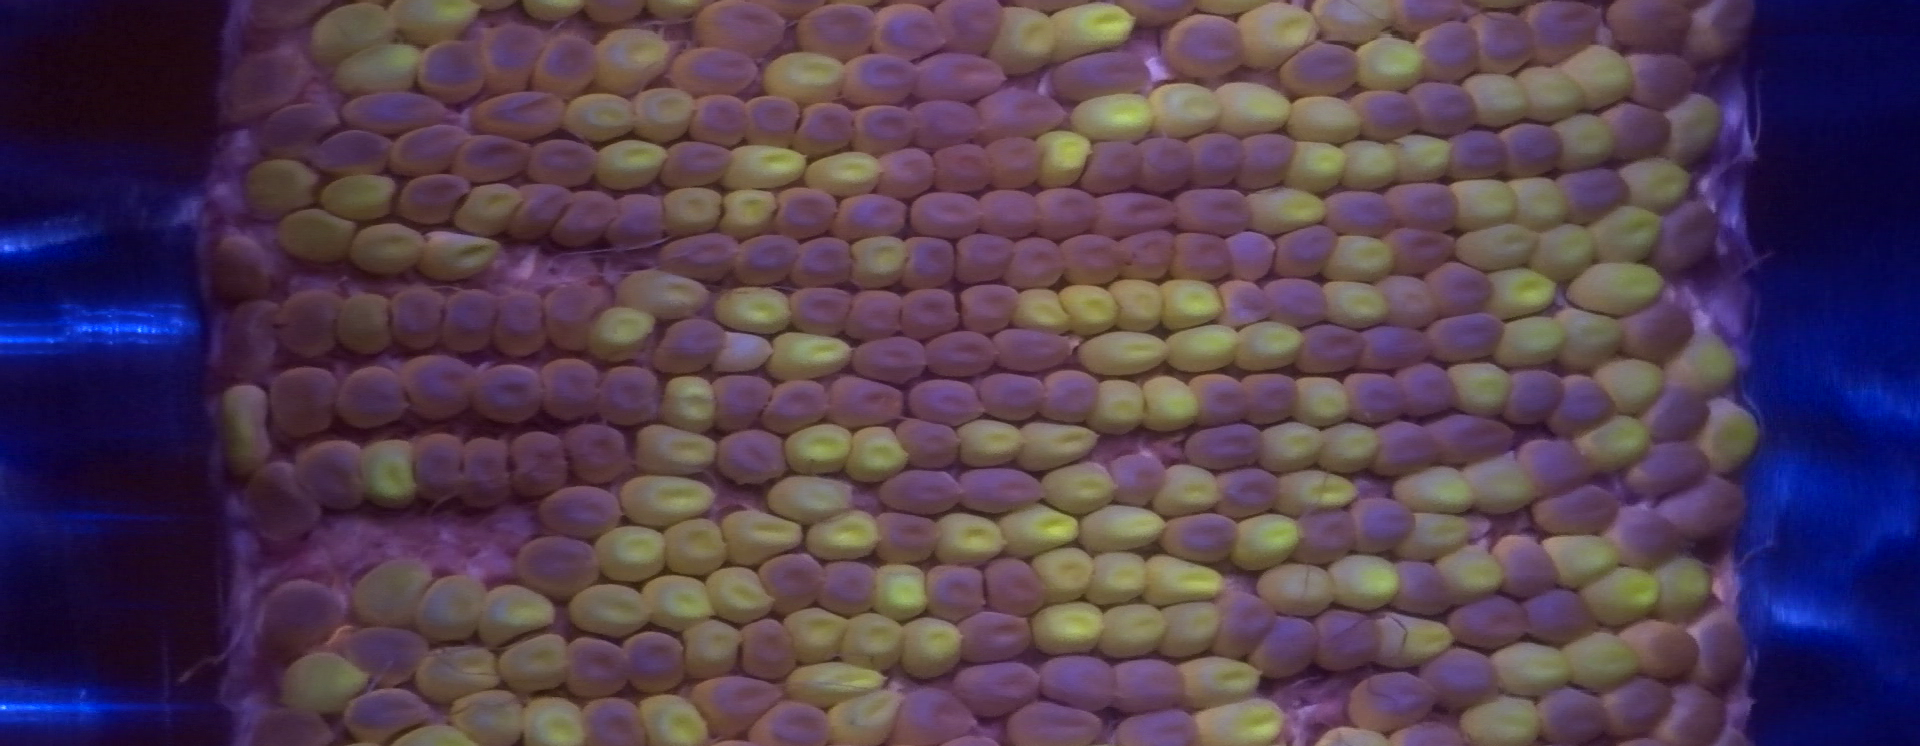fluorescent: (355, 552, 431, 630), (1575, 260, 1673, 317), (269, 654, 367, 708), (1240, 2, 1314, 73), (218, 381, 271, 474), (764, 473, 851, 529), (1049, 1, 1136, 58), (1516, 58, 1588, 124), (1700, 399, 1764, 473), (1565, 630, 1642, 691), (1258, 560, 1337, 619), (1185, 699, 1284, 746), (719, 510, 808, 561), (1212, 83, 1292, 141), (1080, 328, 1171, 379), (1674, 331, 1738, 402), (628, 475, 714, 528), (620, 269, 707, 321), (767, 330, 853, 381), (1164, 321, 1245, 376), (1456, 72, 1533, 130), (782, 661, 883, 706), (1071, 88, 1150, 145), (250, 160, 324, 219), (1491, 639, 1566, 698), (1387, 462, 1471, 514), (595, 29, 666, 91), (1665, 96, 1727, 167), (1562, 298, 1619, 375), (1378, 609, 1455, 665), (900, 620, 967, 684), (598, 526, 667, 587), (420, 225, 498, 279), (347, 223, 429, 274), (1037, 461, 1113, 516), (1179, 655, 1262, 706), (1540, 530, 1618, 584), (370, 443, 426, 517), (422, 647, 496, 703), (1591, 207, 1664, 263), (1571, 45, 1633, 111), (1352, 31, 1423, 88), (767, 51, 844, 104), (273, 209, 354, 260), (339, 42, 418, 93), (802, 507, 874, 562), (638, 423, 711, 477), (1138, 552, 1216, 603), (1150, 82, 1226, 134), (334, 293, 396, 356), (658, 519, 722, 579), (1464, 453, 1531, 512), (1288, 93, 1369, 141), (1273, 468, 1356, 514), (1329, 554, 1393, 612), (452, 687, 519, 744), (1591, 567, 1658, 624), (391, 2, 476, 47), (1233, 322, 1308, 372), (1460, 698, 1538, 746), (1249, 183, 1325, 232), (1321, 277, 1389, 332), (1587, 419, 1656, 473), (1551, 107, 1611, 168), (501, 631, 564, 688), (1291, 369, 1351, 429), (992, 12, 1051, 73), (317, 4, 387, 55), (1286, 136, 1349, 192), (1540, 222, 1596, 287), (1402, 510, 1477, 557), (852, 610, 902, 681), (454, 181, 520, 235), (1452, 227, 1540, 267), (1018, 418, 1086, 469), (1091, 376, 1147, 439), (785, 608, 849, 663), (784, 420, 849, 474), (1100, 605, 1164, 659), (1085, 503, 1162, 549), (643, 695, 710, 746), (662, 372, 720, 432), (594, 141, 670, 186), (650, 575, 714, 628), (1449, 358, 1512, 412), (1033, 605, 1103, 654), (1624, 160, 1693, 209), (1487, 266, 1554, 316), (632, 85, 694, 138), (1259, 418, 1321, 472), (934, 511, 1004, 559), (1161, 601, 1220, 658), (596, 304, 656, 359), (844, 423, 904, 478), (1316, 419, 1379, 472), (708, 563, 771, 615), (711, 287, 784, 332), (948, 416, 1018, 463), (1086, 544, 1144, 600), (831, 688, 898, 737), (677, 620, 738, 673), (582, 588, 650, 635), (1153, 277, 1222, 323), (1036, 544, 1091, 601), (1000, 507, 1074, 550), (1232, 518, 1293, 570), (1162, 461, 1220, 514), (874, 562, 934, 614), (326, 175, 396, 219), (1387, 132, 1449, 183), (1605, 363, 1660, 418), (480, 584, 545, 631), (1436, 551, 1501, 598), (798, 149, 874, 189), (1338, 134, 1395, 186), (1059, 284, 1118, 334), (1327, 232, 1392, 277), (576, 88, 633, 138), (732, 145, 807, 183), (660, 189, 726, 232), (1457, 180, 1520, 225), (1496, 318, 1560, 363), (719, 187, 779, 234), (1114, 279, 1162, 337), (847, 233, 901, 283), (1142, 377, 1196, 428), (1008, 288, 1068, 332), (1512, 176, 1562, 229), (1660, 559, 1709, 612), (528, 698, 580, 746), (1035, 134, 1082, 184)
nonfluorescent: (253, 576, 342, 652), (250, 461, 323, 548), (222, 45, 305, 118), (519, 533, 602, 600), (688, 2, 782, 61), (343, 628, 443, 684), (1693, 594, 1752, 687), (296, 439, 370, 512), (463, 89, 569, 138), (1667, 477, 1746, 541), (1163, 13, 1244, 77), (693, 671, 778, 731), (1627, 439, 1708, 501), (269, 288, 342, 356), (669, 40, 760, 94), (1353, 674, 1438, 731), (1184, 418, 1272, 473), (540, 485, 626, 541), (211, 228, 274, 303), (1422, 642, 1496, 706), (343, 688, 431, 741), (1633, 617, 1701, 686), (1605, 503, 1676, 568), (1526, 4, 1604, 62), (1604, 1, 1689, 55), (1052, 53, 1157, 96), (1042, 652, 1114, 714), (915, 51, 1007, 100), (975, 87, 1064, 137), (962, 660, 1042, 717), (1660, 200, 1720, 274), (1009, 699, 1104, 746), (342, 92, 462, 129), (1111, 659, 1187, 717), (530, 31, 602, 91), (220, 301, 276, 380), (1604, 94, 1671, 158), (898, 686, 973, 742), (337, 366, 408, 426), (1171, 185, 1251, 238), (1600, 677, 1673, 736), (798, 2, 872, 60), (269, 372, 336, 436), (1619, 304, 1693, 360), (551, 281, 613, 348), (471, 365, 541, 425), (457, 439, 512, 514), (539, 356, 602, 421), (1162, 511, 1240, 563), (438, 288, 498, 356), (718, 425, 787, 484), (824, 372, 904, 424), (1451, 594, 1531, 646), (735, 614, 792, 685), (404, 358, 471, 418), (1370, 419, 1438, 479), (1522, 586, 1592, 643), (418, 39, 489, 96), (1284, 42, 1360, 94), (1631, 51, 1697, 111), (873, 5, 947, 59), (1310, 610, 1379, 668), (936, 1, 1005, 58), (1534, 688, 1610, 740), (260, 104, 339, 153), (386, 284, 443, 352), (656, 317, 724, 375), (1548, 372, 1618, 428), (1390, 183, 1464, 234), (1534, 488, 1613, 537), (1253, 617, 1316, 677), (486, 24, 545, 89), (907, 97, 983, 147), (1416, 78, 1482, 136), (840, 49, 913, 100), (1498, 532, 1560, 592), (563, 636, 627, 695), (1271, 224, 1337, 281), (980, 369, 1046, 425), (562, 425, 628, 481), (1089, 194, 1178, 235), (452, 136, 528, 185), (1438, 413, 1513, 462), (527, 134, 595, 187), (855, 336, 928, 386), (598, 363, 659, 423), (711, 375, 771, 436), (1400, 360, 1458, 423), (879, 468, 962, 512), (1667, 688, 1730, 746), (1315, 187, 1396, 233), (1297, 317, 1362, 374), (964, 468, 1042, 514), (791, 238, 860, 290), (1427, 265, 1495, 317), (1344, 367, 1406, 426), (1562, 170, 1632, 222), (1431, 312, 1502, 363), (497, 293, 550, 360), (924, 331, 1000, 377), (392, 120, 460, 171), (626, 638, 686, 697), (1476, 9, 1531, 72), (1444, 126, 1509, 180), (1348, 495, 1413, 549), (662, 134, 729, 186), (976, 189, 1042, 241), (831, 194, 910, 238), (1420, 22, 1478, 82), (928, 563, 986, 624), (910, 376, 982, 424), (760, 382, 829, 432), (849, 100, 912, 154), (1220, 593, 1273, 657), (873, 507, 938, 560), (1082, 138, 1141, 196), (410, 434, 460, 501), (778, 184, 838, 240), (245, 704, 326, 746), (1396, 557, 1450, 620), (907, 192, 980, 239), (928, 140, 992, 192), (400, 173, 464, 225), (1242, 132, 1300, 189), (655, 235, 740, 274), (313, 131, 391, 174), (509, 430, 564, 490), (1387, 228, 1458, 274), (1116, 229, 1177, 283), (786, 281, 850, 332), (584, 695, 648, 746), (1043, 369, 1101, 425), (1509, 369, 1565, 426), (1651, 385, 1708, 441), (798, 100, 857, 156), (509, 187, 568, 243), (556, 191, 610, 251), (1059, 232, 1119, 285), (1296, 510, 1356, 563), (1260, 279, 1327, 327), (758, 704, 835, 746), (998, 327, 1070, 371), (1354, 91, 1419, 140), (1173, 228, 1229, 284), (767, 552, 823, 609), (1114, 706, 1193, 746), (1518, 437, 1577, 491), (900, 423, 966, 470), (1381, 274, 1438, 330), (823, 561, 878, 617), (984, 560, 1040, 616), (1138, 137, 1191, 195), (951, 238, 1016, 285), (738, 233, 800, 283), (876, 145, 933, 197), (964, 616, 1035, 658), (1365, 326, 1430, 371), (744, 96, 804, 145), (1187, 131, 1240, 185), (610, 192, 661, 249), (697, 91, 747, 148), (1007, 239, 1065, 288), (899, 285, 953, 338), (1239, 372, 1294, 424), (841, 294, 900, 342), (1218, 468, 1278, 514), (1698, 4, 1753, 54), (984, 137, 1041, 186), (1228, 228, 1280, 281), (959, 282, 1014, 331), (1198, 371, 1245, 428), (905, 235, 955, 287), (1113, 453, 1164, 503), (1035, 189, 1089, 236), (719, 330, 771, 372), (1224, 279, 1262, 332)
